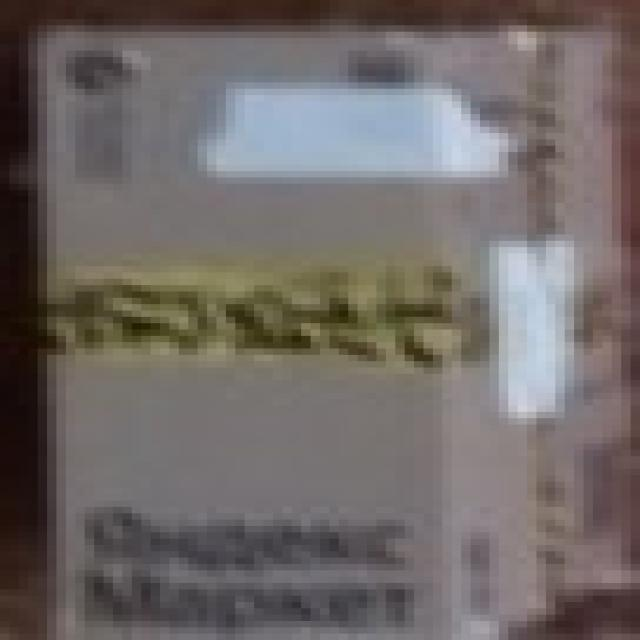boxes: (39, 29, 606, 640)
